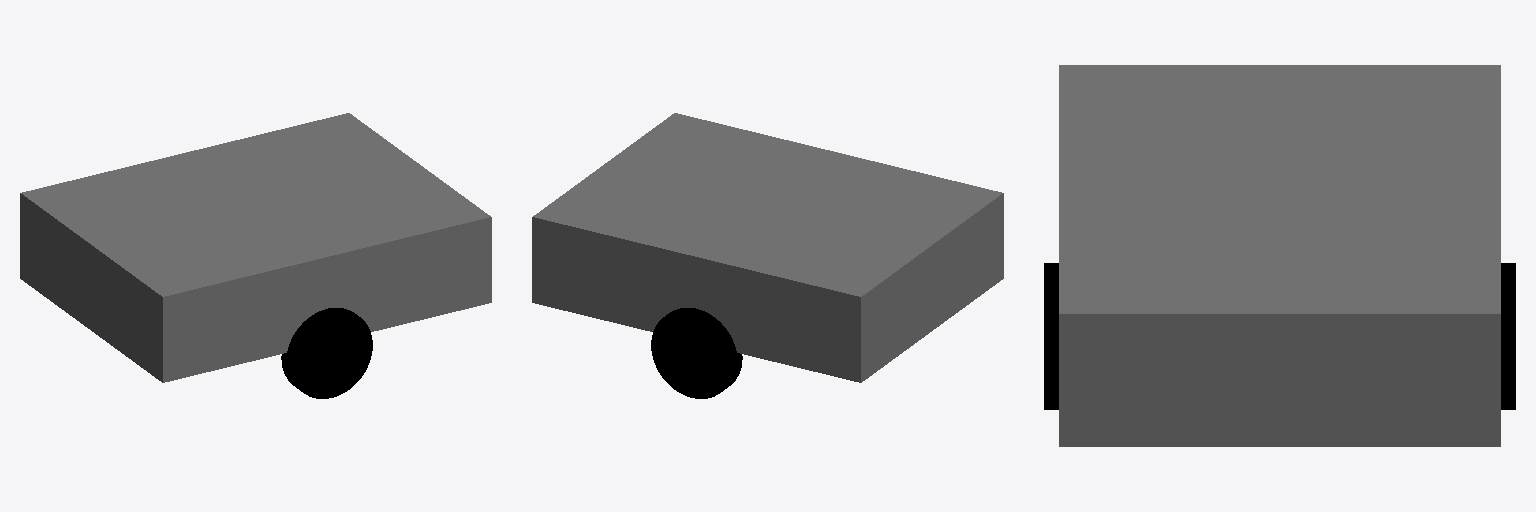
robot.urdf — two_wheel_robot:
<?xml version="1.0"?>
<robot name="two_wheel_robot">

  <!-- Base Link -->
  <link name="base_link">
    <visual>
      <geometry>
        <box size="0.4 0.3 0.1"/> <!-- length, width, height -->
      </geometry>
      <origin xyz="0 0 0" rpy="0 0 0"/>
      <material name="grey">
        <color rgba="0.5 0.5 0.5 1"/>
      </material>
    </visual>
    <collision>
      <geometry>
        <box size="0.4 0.3 0.1"/>
      </geometry>
      <origin xyz="0 0 0" rpy="0 0 0"/>
    </collision>
    <inertial>
      <mass value="5.0"/>
      <inertia ixx="0.1" ixy="0.0" ixz="0.0"
               iyy="0.1" iyz="0.0"
               izz="0.1"/>
    </inertial>
  </link>

  <!-- Left Wheel -->
  <link name="left_wheel">
    <visual>
      <geometry>
        <cylinder radius="0.05" length="0.02"/>
      </geometry>
      <origin xyz="0 0 0" rpy="1.5708 0 0"/> <!-- rotate to align along Y -->
      <material name="black">
        <color rgba="0 0 0 1"/>
      </material>
    </visual>
    <collision>
      <geometry>
        <cylinder radius="0.05" length="0.02"/>
      </geometry>
      <origin xyz="0 0 0" rpy="1.5708 0 0"/>
    </collision>
    <inertial>
      <mass value="0.3"/>
      <inertia ixx="0.001" ixy="0.0" ixz="0.0"
               iyy="0.001" iyz="0.0"
               izz="0.001"/>
    </inertial>
  </link>

  <!-- Right Wheel -->
  <link name="right_wheel">
    <visual>
      <geometry>
        <cylinder radius="0.05" length="0.02"/>
      </geometry>
      <origin xyz="0 0 0" rpy="1.5708 0 0"/>
      <material name="black"/>
    </visual>
    <collision>
      <geometry>
        <cylinder radius="0.05" length="0.02"/>
      </geometry>
      <origin xyz="0 0 0" rpy="1.5708 0 0"/>
    </collision>
    <inertial>
      <mass value="0.3"/>
      <inertia ixx="0.001" ixy="0.0" ixz="0.0"
               iyy="0.001" iyz="0.0"
               izz="0.001"/>
    </inertial>
  </link>

  <!-- Joint: base_link to left_wheel -->
  <joint name="left_wheel_joint" type="continuous">
  <parent link="base_link"/>
  <child link="left_wheel"/>
  <origin xyz="0 0.15 -0.06" rpy="0 0 0"/> <!-- moved downward -->
  <axis xyz="0 1 0"/>
</joint>

<!-- Right wheel -->
<joint name="right_wheel_joint" type="continuous">
  <parent link="base_link"/>
  <child link="right_wheel"/>
  <origin xyz="0 -0.15 -0.06" rpy="0 0 0"/>
  <axis xyz="0 1 0"/>
</joint>

</robot>

--- What the picture shows (computed from the rendered views, not written in the file) ---
3 views of the same robot in one strip: view 1: azimuth 30°, elevation 25°; view 2: azimuth 150°, elevation 25°; view 3: azimuth 270°, elevation 25° (orthographic).
Model two_wheel_robot with 3 links and 2 joints (2 continuous), rooted at base_link, posed all joints at 0.
Links seen in each view (by area): view 1: base_link, right_wheel; view 2: base_link, left_wheel; view 3: base_link, left_wheel, right_wheel.
Link boxes in pixels (bbox=[...]): base_link: bbox=[20, 113, 491, 382]; right_wheel: bbox=[281, 308, 372, 398]; base_link: bbox=[532, 113, 1003, 382]; left_wheel: bbox=[651, 308, 742, 398]; base_link: bbox=[1059, 65, 1500, 446]; left_wheel: bbox=[1501, 263, 1515, 409]; right_wheel: bbox=[1044, 263, 1058, 409].
Size in the robot's own frame: 0.4 by 0.32 by 0.16 metres.
Geometry: primitives only (box / cylinder / sphere), no mesh files.